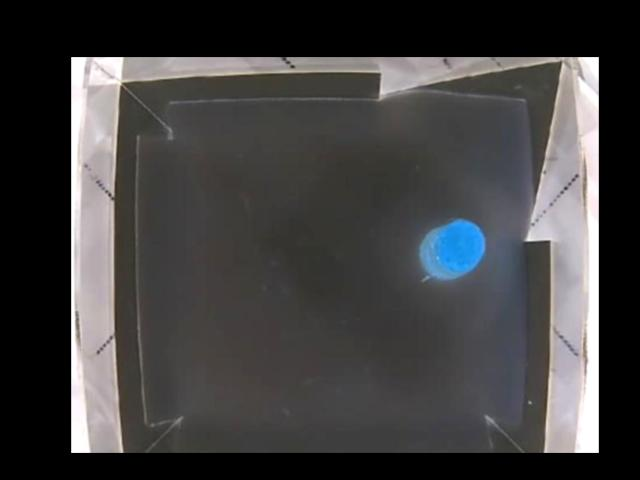Carrot: (420, 218, 485, 279)
